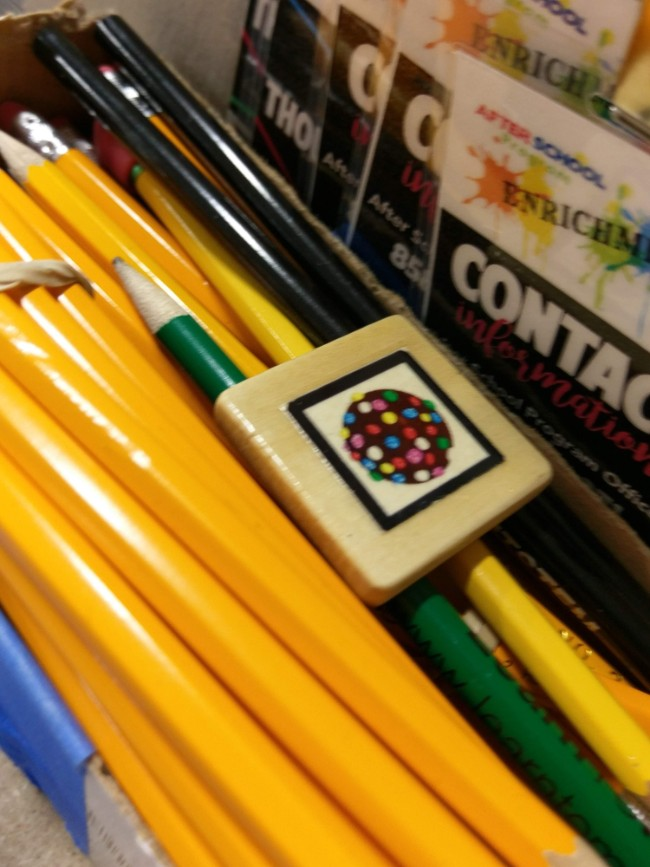cookie: (293, 351, 502, 525)
